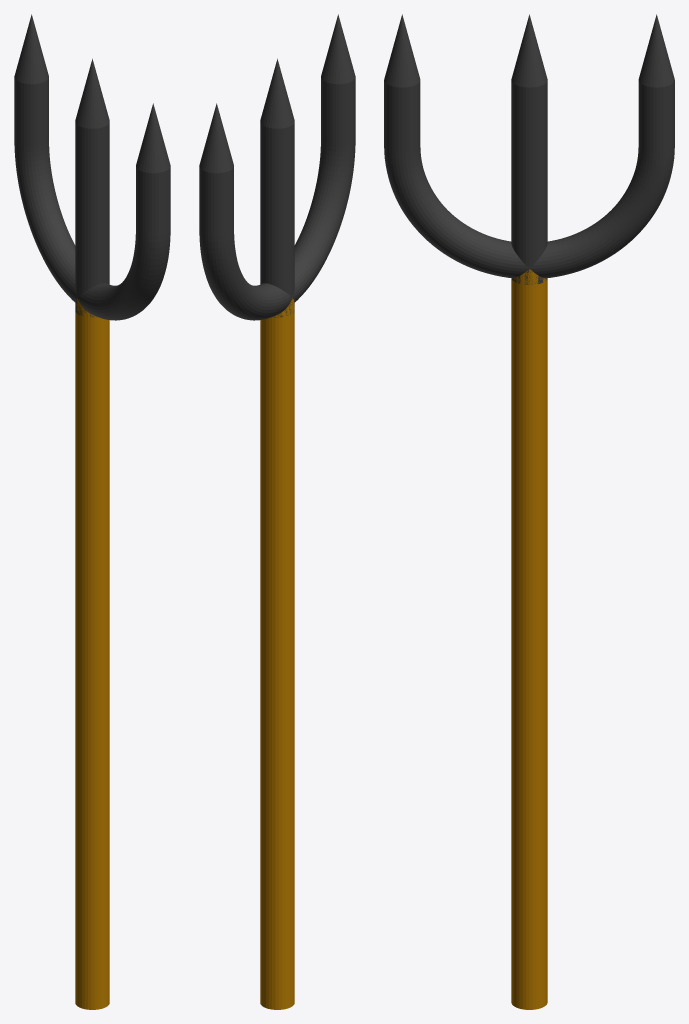
Rendered from FighterVILO.fbx.
3 renders of one model, left to right at view 1: azimuth 30°, elevation 25°; view 2: azimuth 150°, elevation 25°; view 3: azimuth 270°, elevation 25°, orthographic. The views are drawn at different scales.
Visible parts, largest first — view 1: Cylinder; view 2: Cylinder; view 3: Cylinder.
Part boxes in pixels (bbox=[...]): Cylinder: bbox=[14, 14, 170, 1009]; Cylinder: bbox=[199, 14, 355, 1009]; Cylinder: bbox=[384, 14, 674, 1009].
Size of the model in its own units: 5 by 150 by 40.
